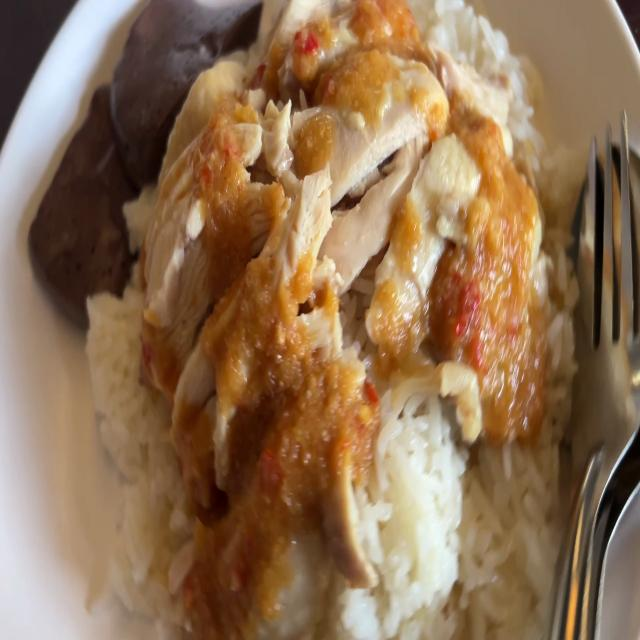boiled_chicken: (161, 4, 525, 502)
boiled_chicken_blood_jelly: (28, 89, 137, 296), (97, 0, 252, 131)
chicken_rice: (36, 0, 584, 640)
